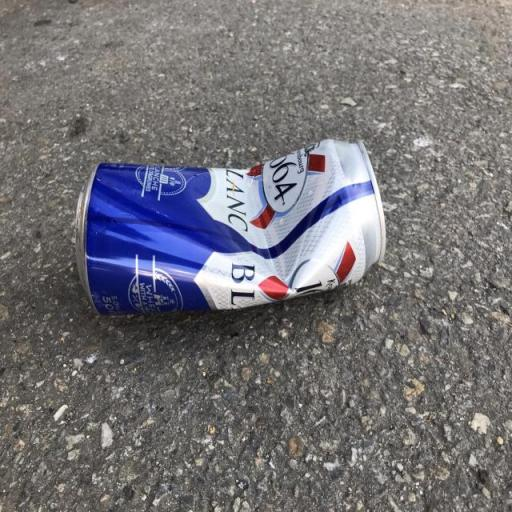metal: (46, 97, 409, 349)
